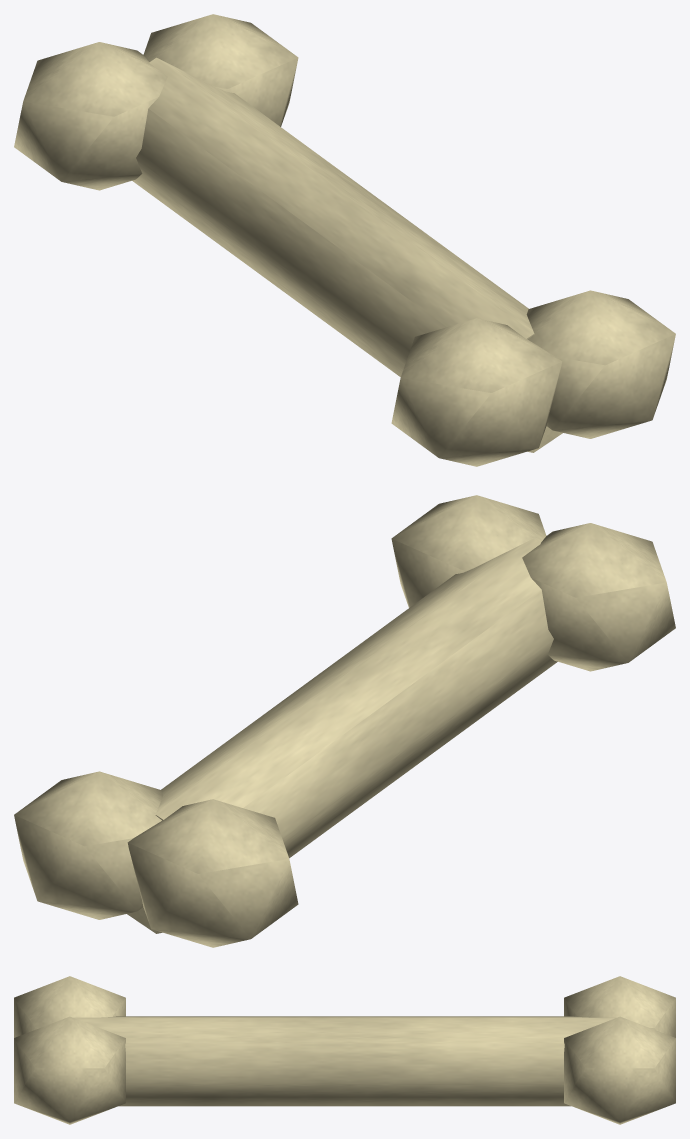
File: item-Bone.fbx
3 renders of one model, top to bottom at view 1: azimuth 30°, elevation 25°; view 2: azimuth 150°, elevation 25°; view 3: azimuth 270°, elevation 25°, orthographic. The views are drawn at different scales.
Visible parts, largest first — view 1: item-Bone__Geometry; view 2: item-Bone__Geometry; view 3: item-Bone__Geometry.
Part boxes in pixels (left/top/right/bottom): item-Bone__Geometry: left=14, top=14, right=675, bottom=466; item-Bone__Geometry: left=14, top=495, right=675, bottom=947; item-Bone__Geometry: left=14, top=976, right=675, bottom=1124.
Size of the model in its own units: 0.1873 by 0.1 by 0.5536.
Materials: 1 (1 with a texture image).
